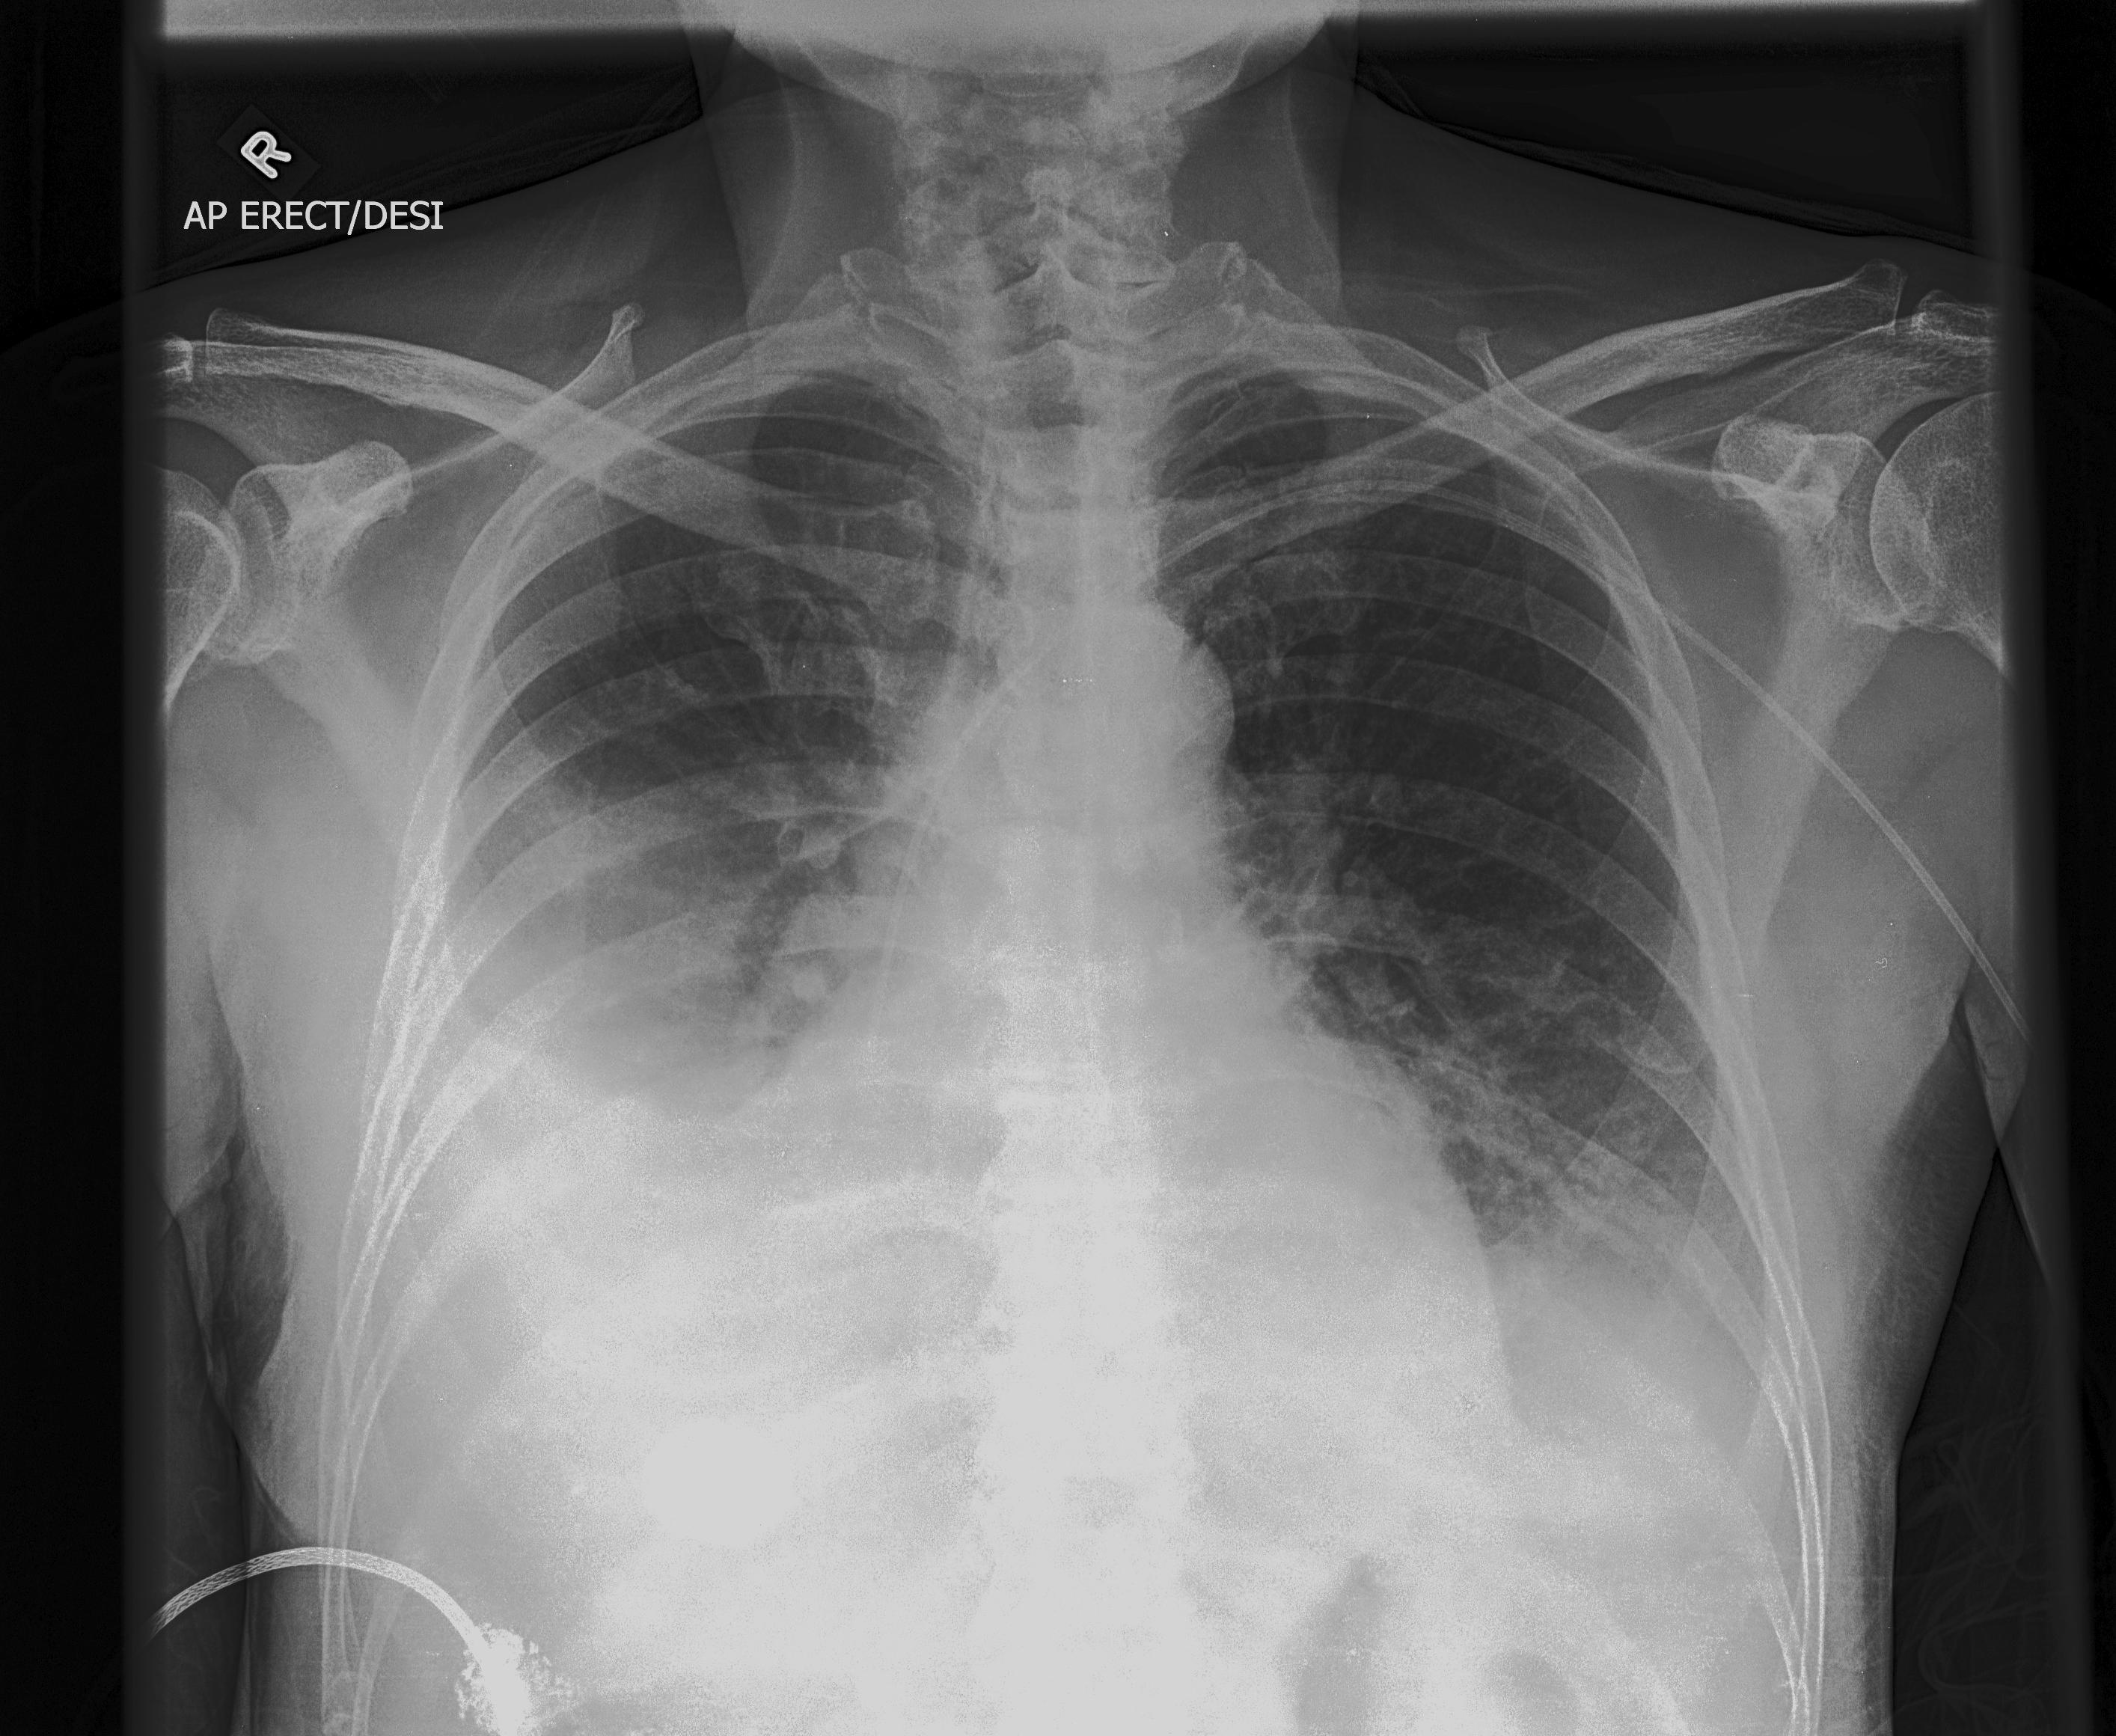Pleural Effusion: (336, 954, 707, 1436), (1496, 1177, 1859, 1478)
